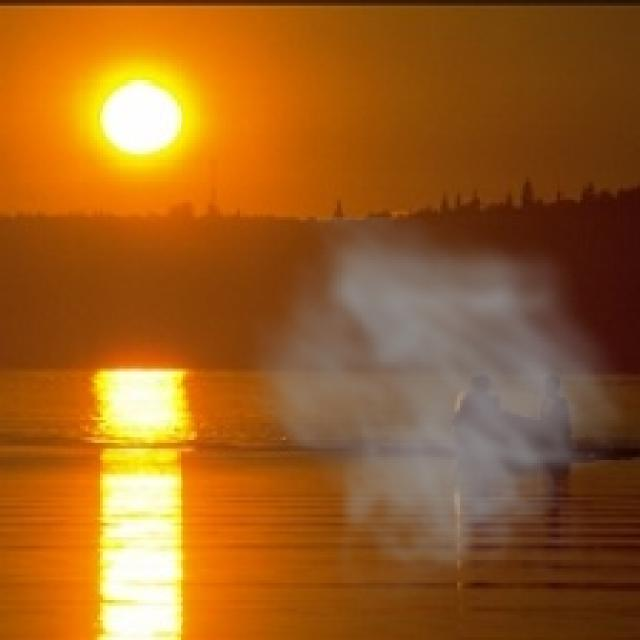smoke: (234, 217, 637, 617)
